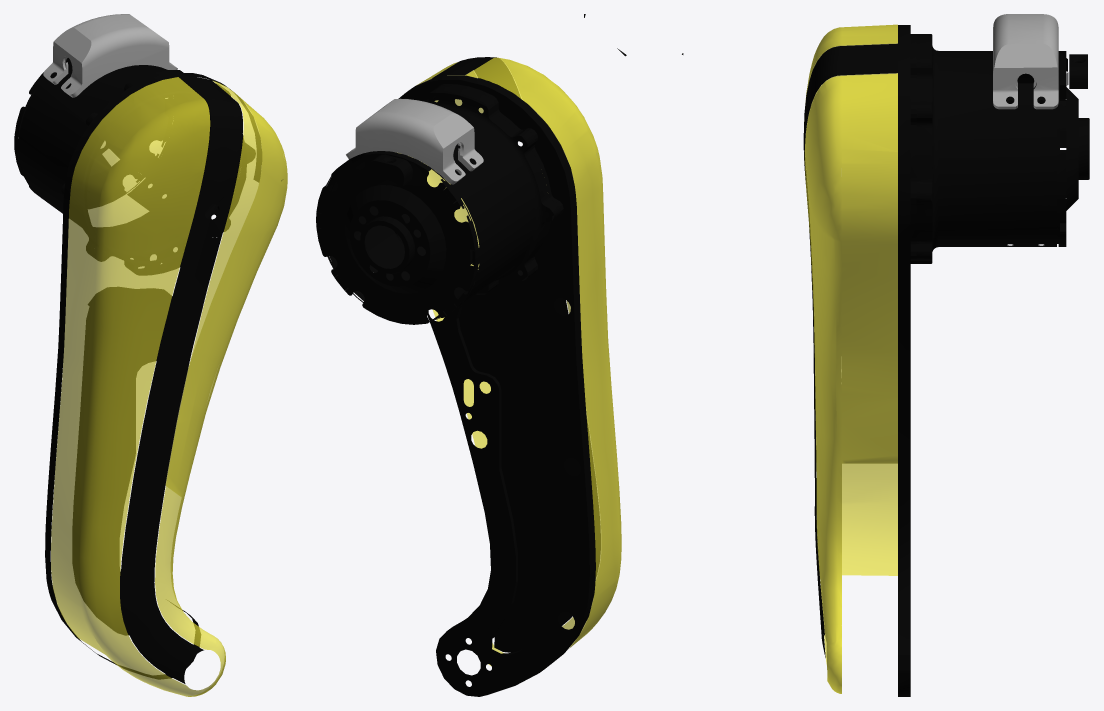
File: R_THIGH.dae
3 views of the same model, side by side, from view 1: azimuth 30°, elevation 25°; view 2: azimuth 150°, elevation 25°; view 3: azimuth 270°, elevation 25° (orthographic). The views are drawn at different scales.
Parts seen in each view (by area): view 1: FR_THIGH_-_____________-1, FR_THIGH_-_____________-1.003, FR_THIGH_-_____________-1.001, FR_THIGH_-_____________-1.026, FR_THIGH_-_____________-1.002, FR_THIGH_-_____________-1.013, FR_THIGH_-_____________-1.101, FR_THIGH_-_____________-1.027; view 2: FR_THIGH_-_____________-1.004, FR_THIGH_-_____________-1, FR_THIGH_-_____________-1.026, FR_THIGH_-_____________-1.101, FR_THIGH_-_____________-1.003, FR_THIGH_-_____________-1.002, FR_THIGH_-_____________-1.013, FR_THIGH_-_____________-1.001, FR_THIGH_-_____________-1.027; view 3: FR_THIGH_-_____________-1, FR_THIGH_-_____________-1.003, FR_THIGH_-_____________-1.002, FR_THIGH_-_____________-1.012, FR_THIGH_-_____________-1.001, FR_THIGH_-_____________-1.101, FR_THIGH_-_____________-1.013, FR_THIGH_-_____________-1.014.
Part boxes in pixels (x1,y1,x2,y2): FR_THIGH_-_____________-1: [51, 77, 287, 696]; FR_THIGH_-_____________-1.003: [14, 60, 255, 275]; FR_THIGH_-_____________-1.001: [120, 76, 242, 683]; FR_THIGH_-_____________-1.026: [72, 288, 172, 616]; FR_THIGH_-_____________-1.002: [43, 14, 177, 97]; FR_THIGH_-_____________-1.013: [45, 73, 237, 679]; FR_THIGH_-_____________-1.101: [18, 58, 168, 205]; FR_THIGH_-_____________-1.027: [97, 599, 128, 635]; FR_THIGH_-_____________-1.004: [388, 80, 589, 696]; FR_THIGH_-_____________-1: [397, 57, 621, 666]; FR_THIGH_-_____________-1.026: [458, 299, 564, 633]; FR_THIGH_-_____________-1.101: [316, 153, 474, 324]; FR_THIGH_-_____________-1.003: [316, 84, 563, 319]; FR_THIGH_-_____________-1.002: [346, 98, 483, 184]; FR_THIGH_-_____________-1.013: [408, 75, 595, 671]; FR_THIGH_-_____________-1.001: [432, 57, 600, 625]; FR_THIGH_-_____________-1.027: [494, 611, 540, 652]; FR_THIGH_-_____________-1: [804, 24, 897, 693]; FR_THIGH_-_____________-1.003: [910, 34, 1066, 263]; FR_THIGH_-_____________-1.002: [993, 14, 1058, 109]; FR_THIGH_-_____________-1.012: [898, 224, 910, 640]; FR_THIGH_-_____________-1.001: [803, 43, 897, 657]; FR_THIGH_-_____________-1.101: [1066, 58, 1089, 209]; FR_THIGH_-_____________-1.013: [898, 25, 910, 696]; FR_THIGH_-_____________-1.014: [898, 114, 910, 224].
Bounding box in the file's own units: 0.0856 × 0.1394 × 0.2367.
